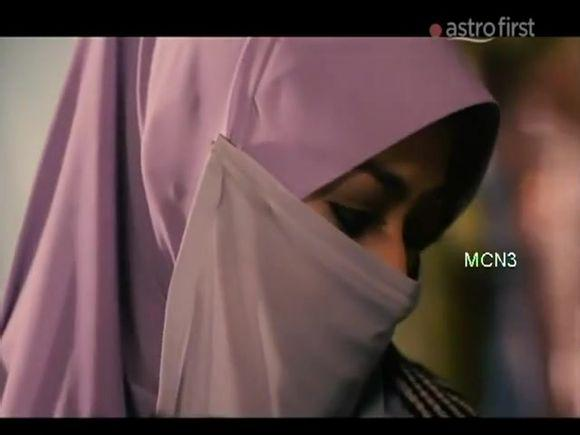OK: (231, 151, 475, 412)
